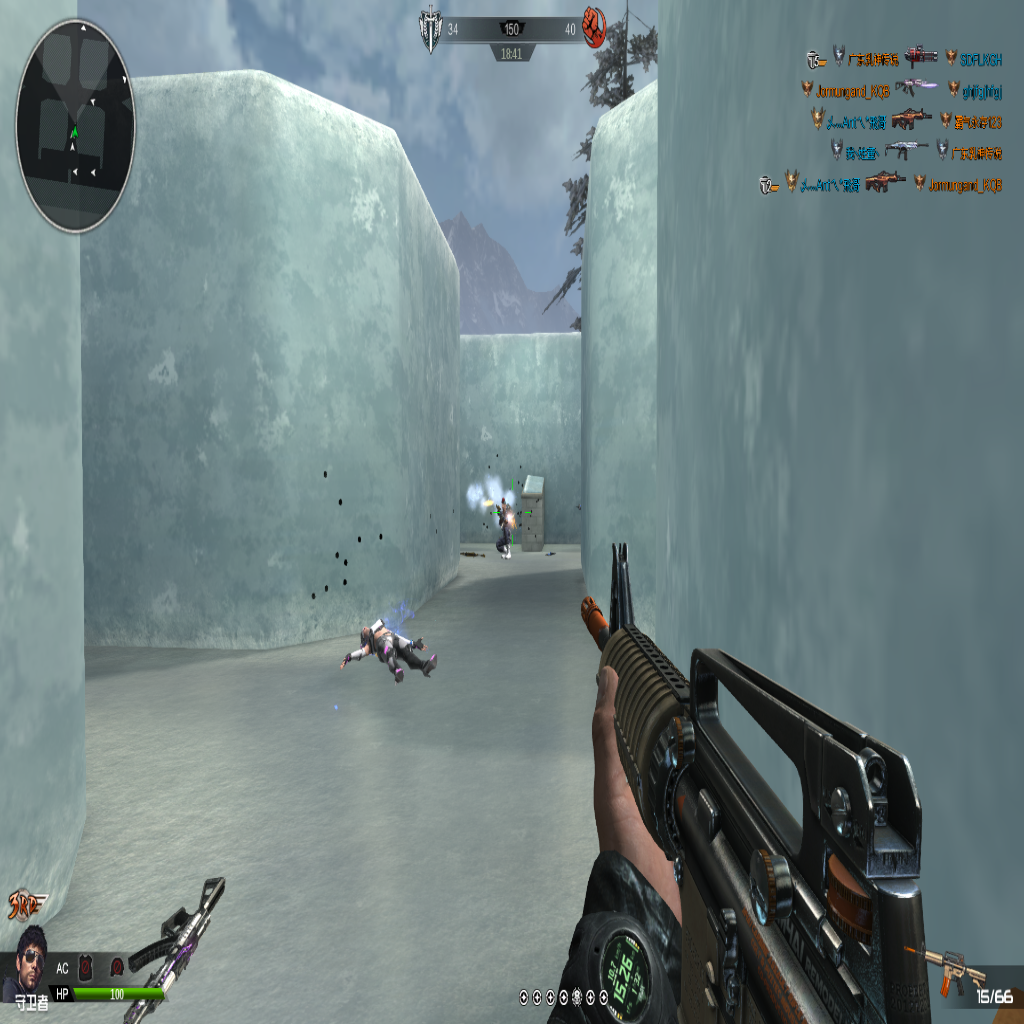tt: (496, 497, 515, 559)
